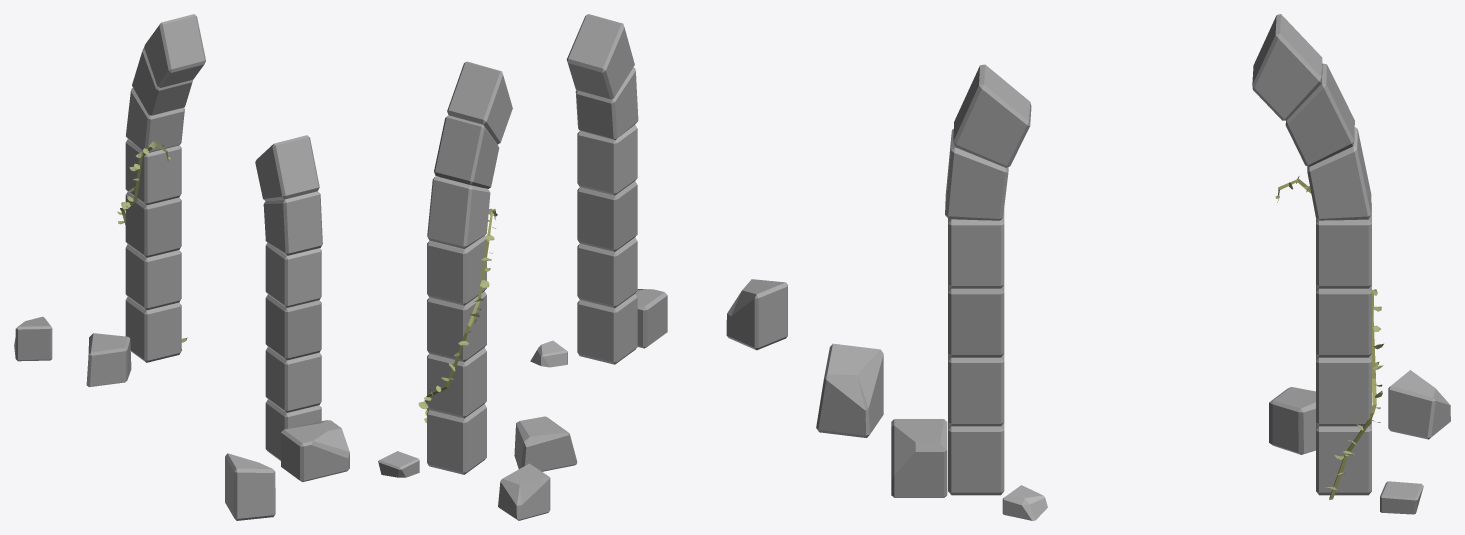
The model's file is fin_niveaux.fbx.
The picture shows the model from 3 angles, left to right: view 1: azimuth 30°, elevation 25°; view 2: azimuth 150°, elevation 25°; view 3: azimuth 270°, elevation 25°; orthographic projection. The views are drawn at different scales.
Visible parts, largest first — view 1: Cylinder; view 2: Cylinder; view 3: Cylinder.
Boxes of the visible parts, x1,y1,x2,y2 form: Cylinder: (14, 14, 349, 520); Cylinder: (378, 14, 787, 520); Cylinder: (816, 14, 1450, 520).
Size of the model in its own units: 291 by 604 by 746.
